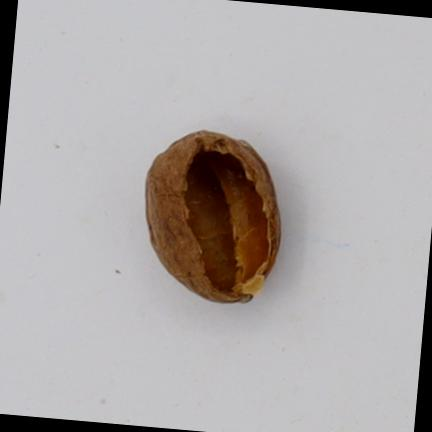full-black: (146, 131, 280, 303)
